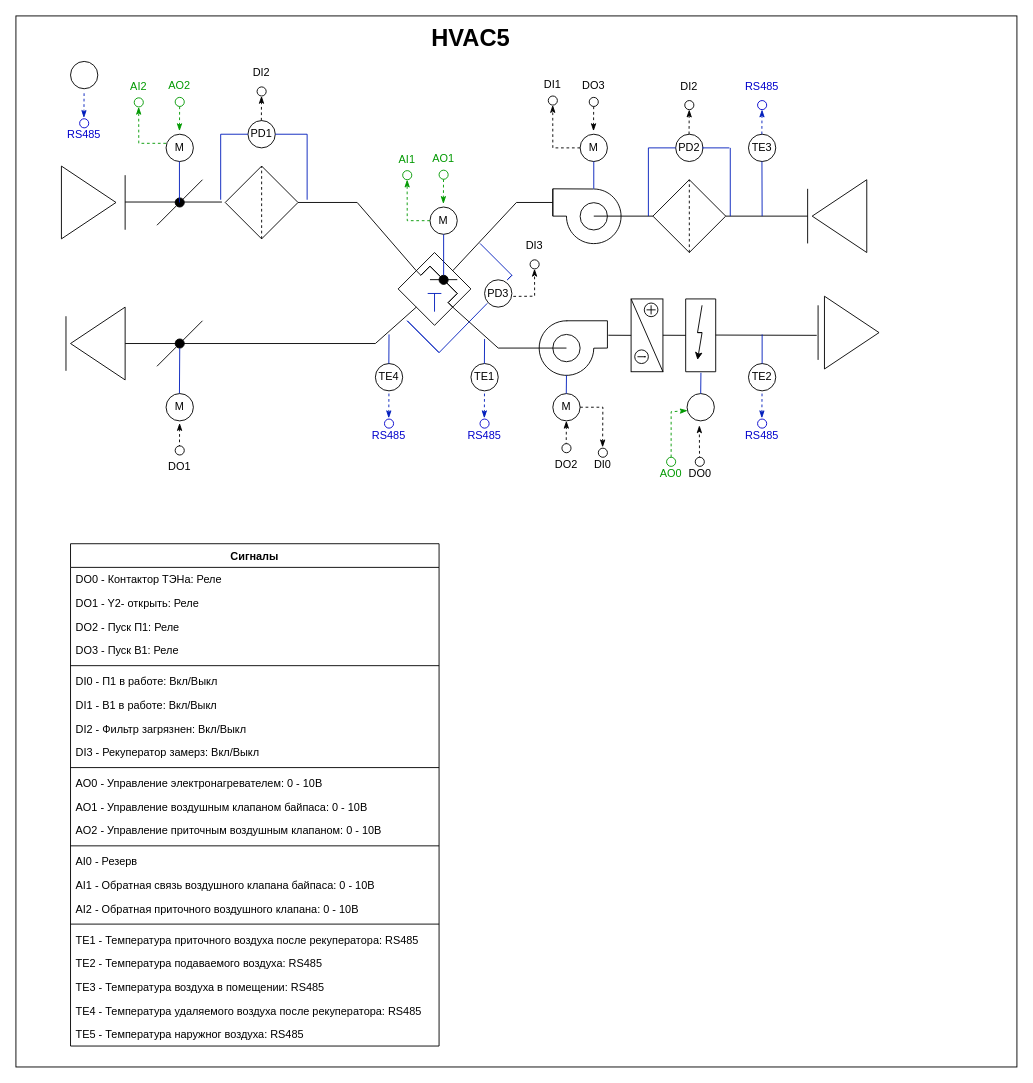
Image size: 1033x1083. Some labels were removed from this diagram. The shapes that lost their labels are listed below. From the top down, each one's centre as x and y in pixels, then its label:
At [84,75]: "TE5".
At [700,407]: "SK1".
